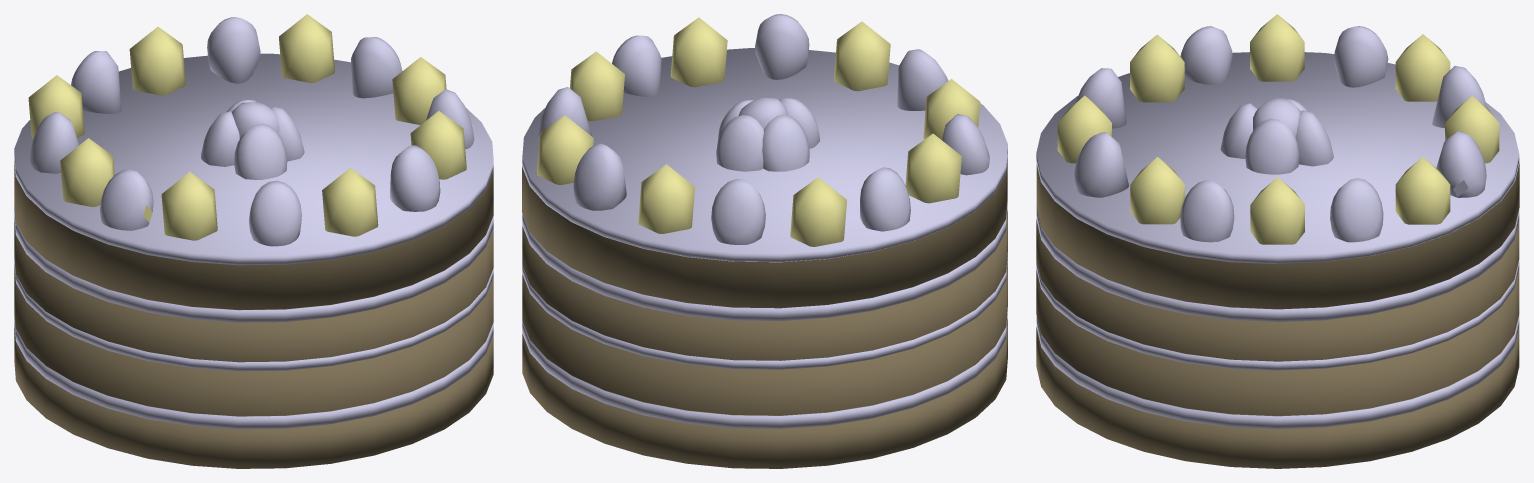
Rendered from торт.fbx.
3 renders of one model, left to right at view 1: azimuth 30°, elevation 25°; view 2: azimuth 150°, elevation 25°; view 3: azimuth 270°, elevation 25°, orthographic.
Visible parts, largest first — view 1: Cylinder.001; view 2: Cylinder.001; view 3: Cylinder.001.
Part boxes in pixels (x1,y1,x2,y2): Cylinder.001: (14,14,493,468); Cylinder.001: (522,14,1007,468); Cylinder.001: (1036,14,1519,468).
Size of the model in its own units: 46.54 by 28.89 by 46.58.
